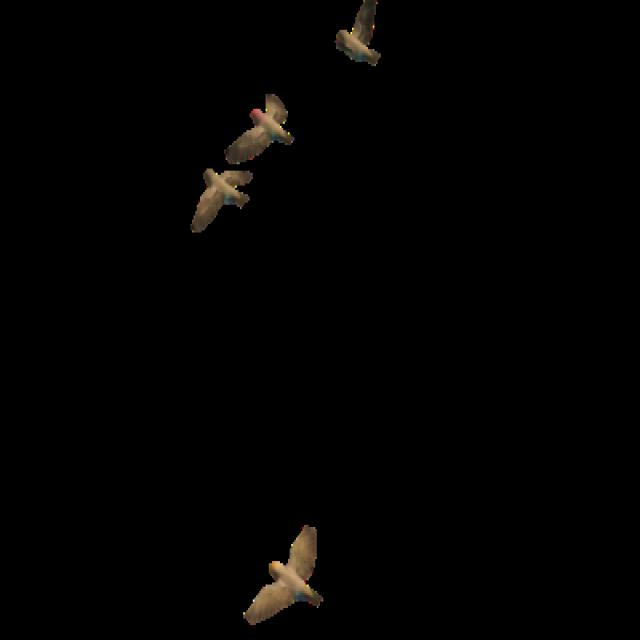birds: (236, 526, 328, 639), (218, 78, 302, 178), (190, 152, 260, 253), (333, 0, 392, 85)
